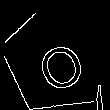O_NW: (27, 26, 87, 91)
